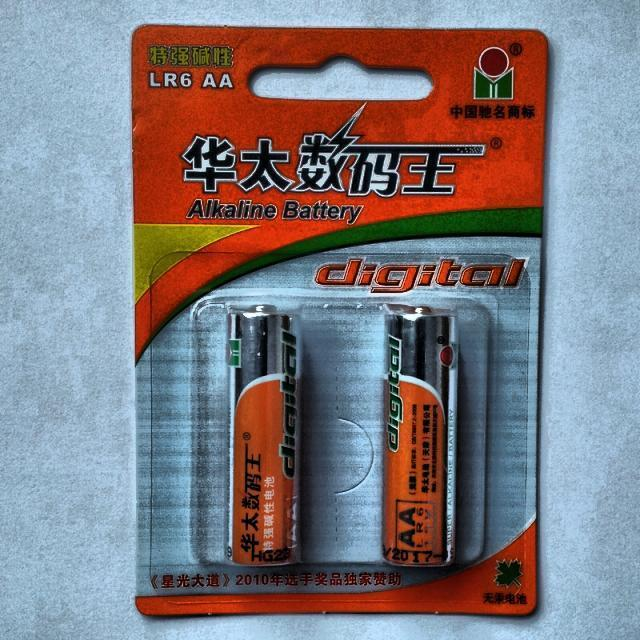battery: (384, 306, 458, 565), (230, 306, 299, 564)
